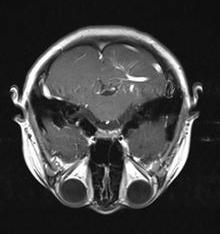Normal_Brain: (4, 1, 220, 234)
